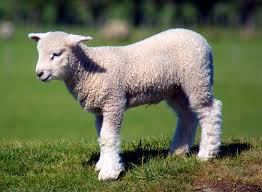koyun: (30, 28, 224, 177)
